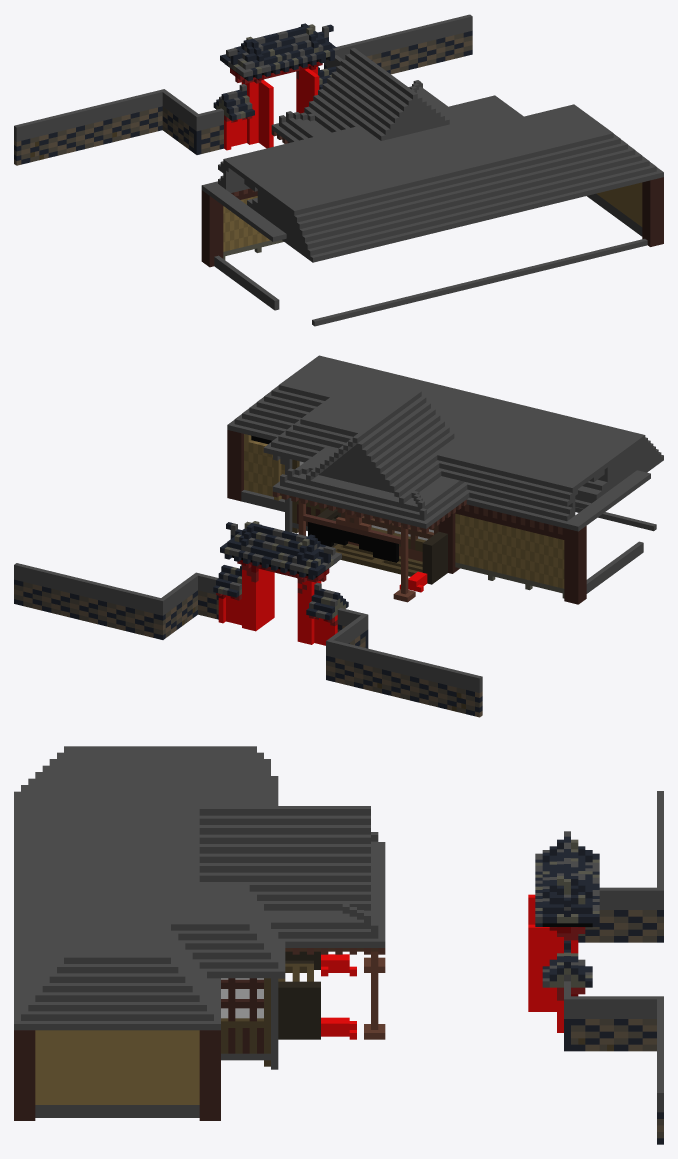
Rendered from senngannenn2.glb.
3 renders of one model, top to bottom at view 1: azimuth 30°, elevation 25°; view 2: azimuth 150°, elevation 25°; view 3: azimuth 270°, elevation 25°, orthographic. The views are drawn at different scales.
Visible parts, largest first — view 1: Untitled; view 2: Untitled; view 3: Untitled.
Boxes of the visible parts, x1,y1,x2,y2 form: Untitled: (14,14,663,326); Untitled: (14,355,663,717); Untitled: (14,746,663,1144).
Size of the model in its own units: 10 by 3 by 9.1.
1 material, 1 textured.
